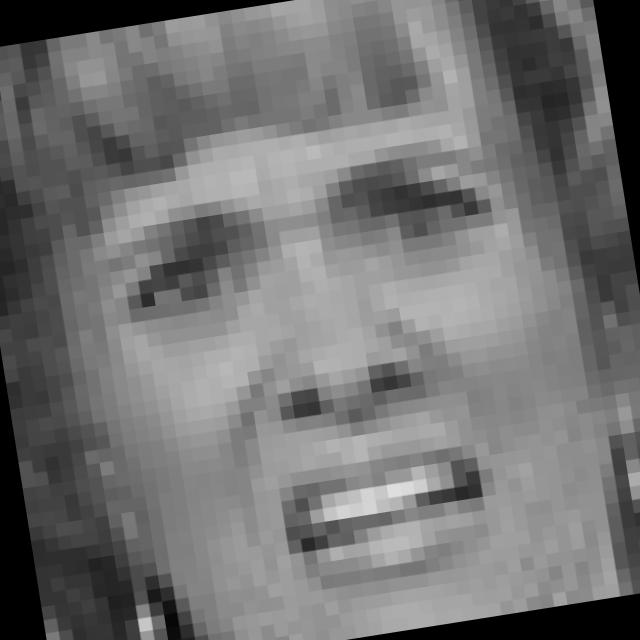disgust: (95, 131, 554, 622)
